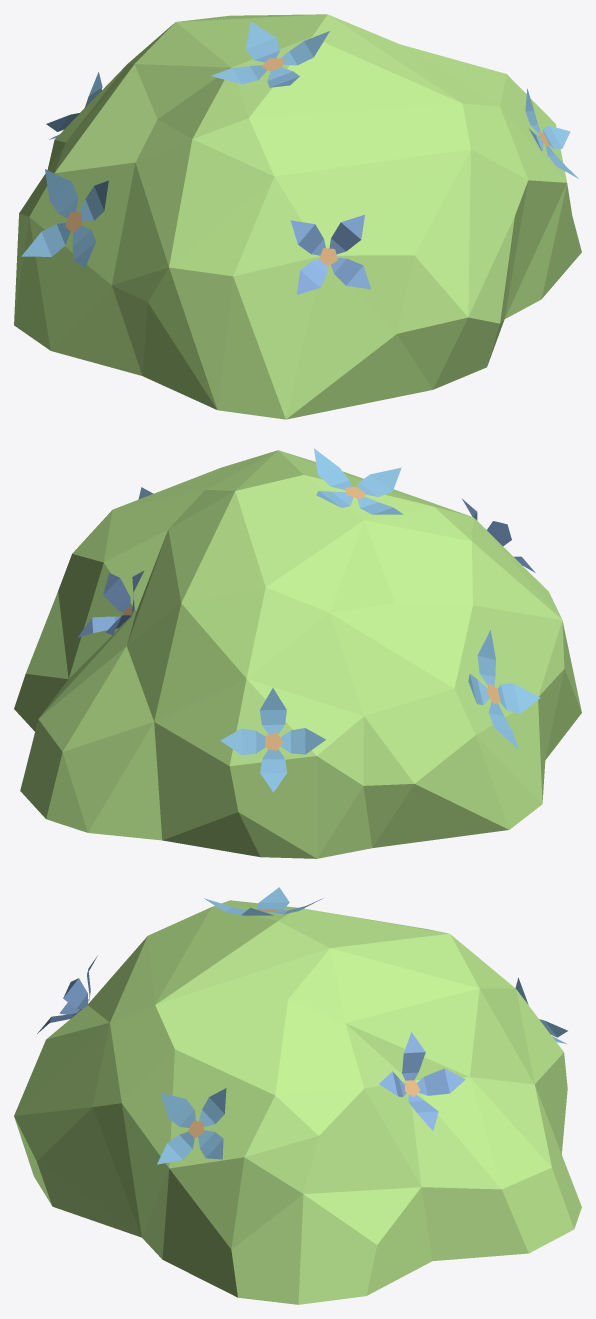
Rendered from FlowerBush_b_l_04.fbx.
The picture shows the model from 3 angles, top to bottom: view 1: azimuth 30°, elevation 25°; view 2: azimuth 150°, elevation 25°; view 3: azimuth 270°, elevation 25°; orthographic projection.
Parts seen in each view (by area): view 1: FlowerBush_b_l_04; view 2: FlowerBush_b_l_04; view 3: FlowerBush_b_l_04.
Part boxes in pixels (x1,y1,x2,y2): FlowerBush_b_l_04: [14, 14, 581, 419]; FlowerBush_b_l_04: [14, 448, 581, 858]; FlowerBush_b_l_04: [14, 887, 581, 1304].
Bounding box in the file's own units: 328 × 168 × 316.
